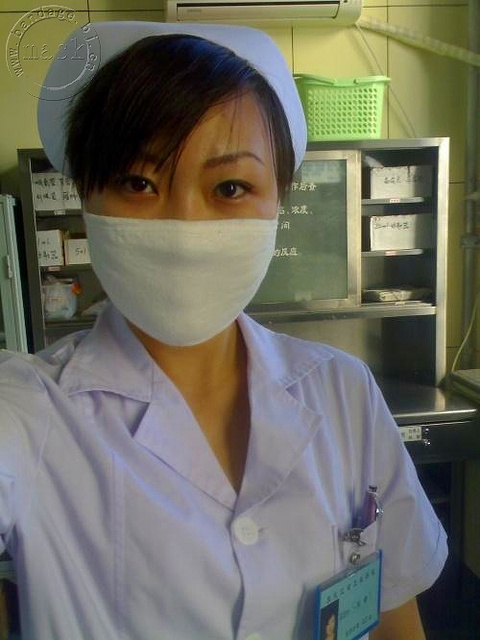face_mask: (91, 69, 276, 346)
